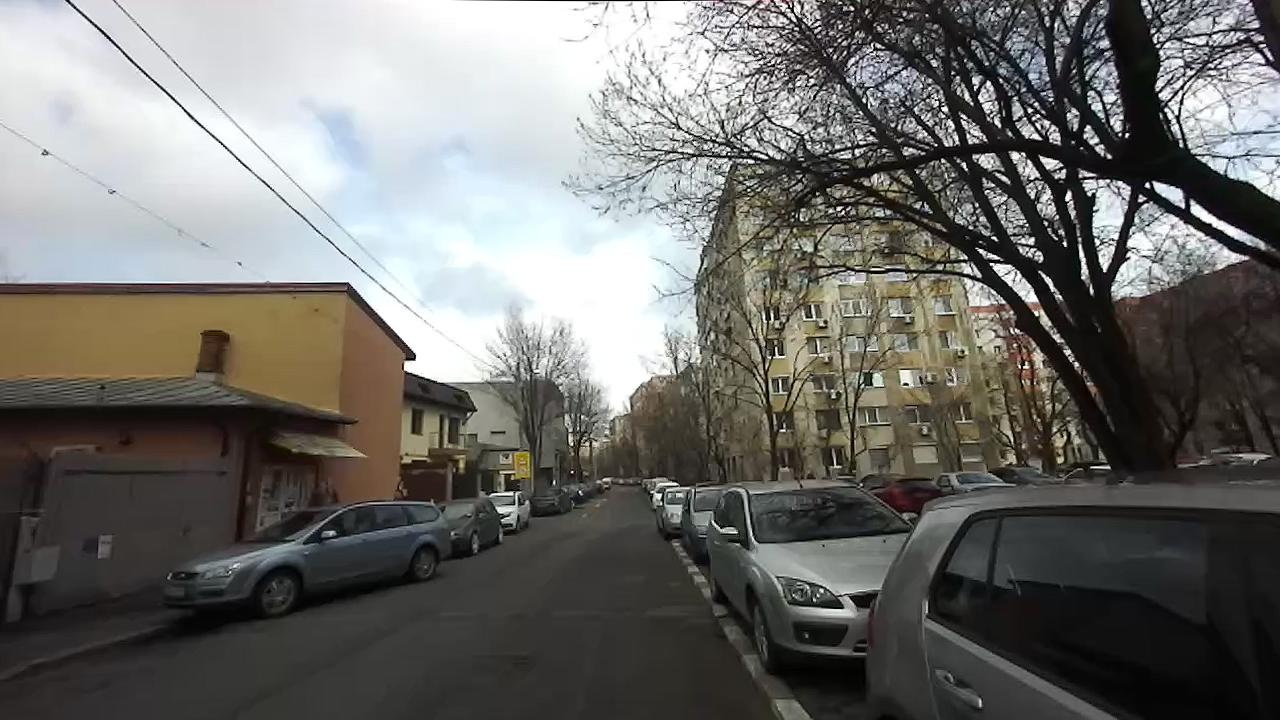pothole: (477, 646, 535, 679)
